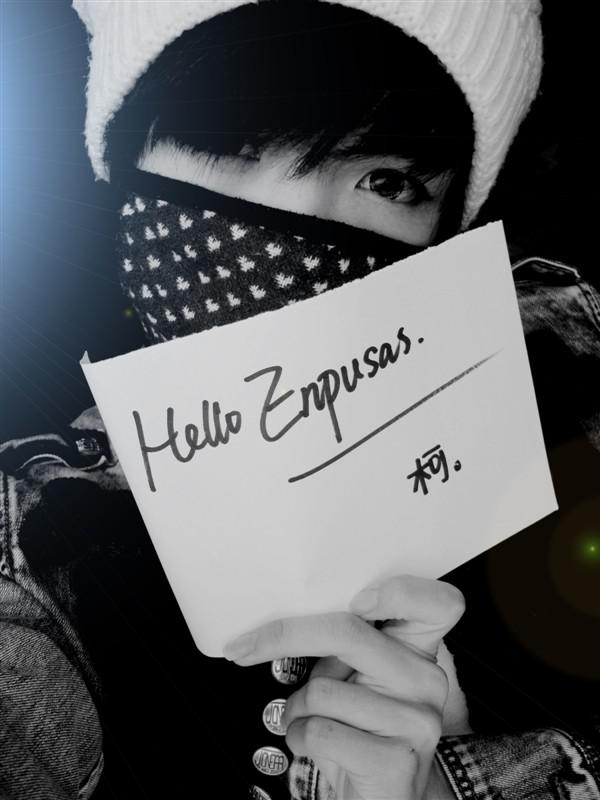OK: (137, 89, 435, 387)
